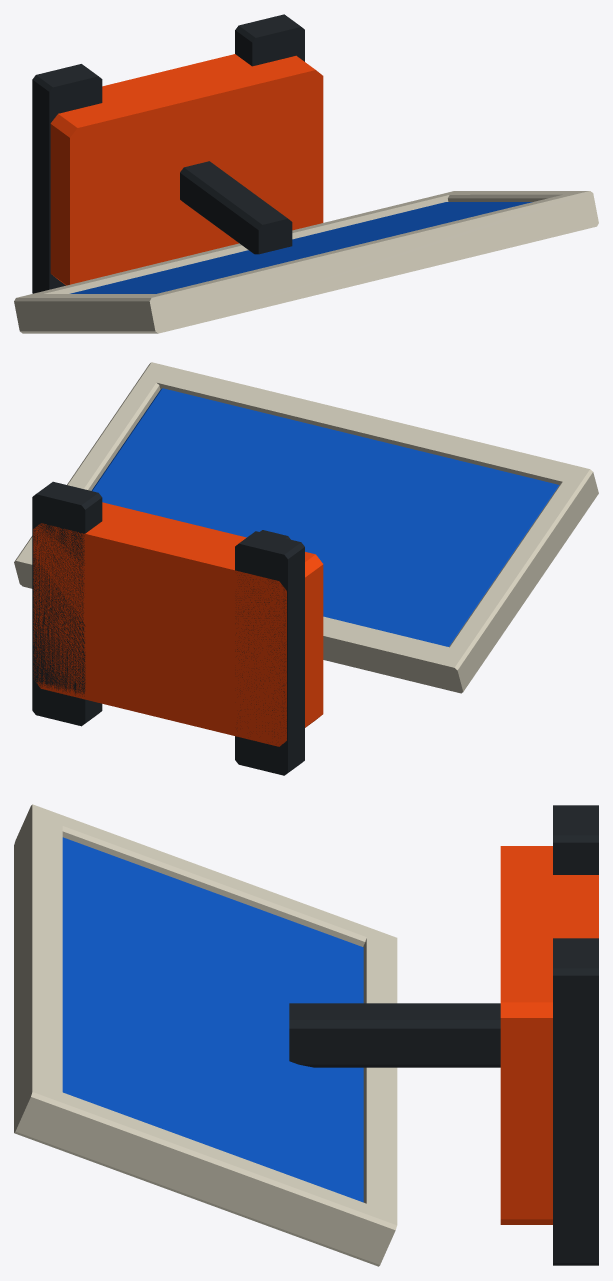
The model's file is solar-panel.obj.
The picture shows the model from 3 angles, top to bottom: view 1: azimuth 30°, elevation 25°; view 2: azimuth 150°, elevation 25°; view 3: azimuth 270°, elevation 25°; orthographic projection. The views are drawn at different scales.
Parts seen in each view (by area): view 1: solar-panel; view 2: solar-panel; view 3: solar-panel.
Part boxes in pixels (bbox=[...]): solar-panel: bbox=[14, 14, 598, 333]; solar-panel: bbox=[14, 362, 598, 775]; solar-panel: bbox=[14, 804, 598, 1266].
Bounding box in the file's own units: 2.1 × 1 × 1.78.
